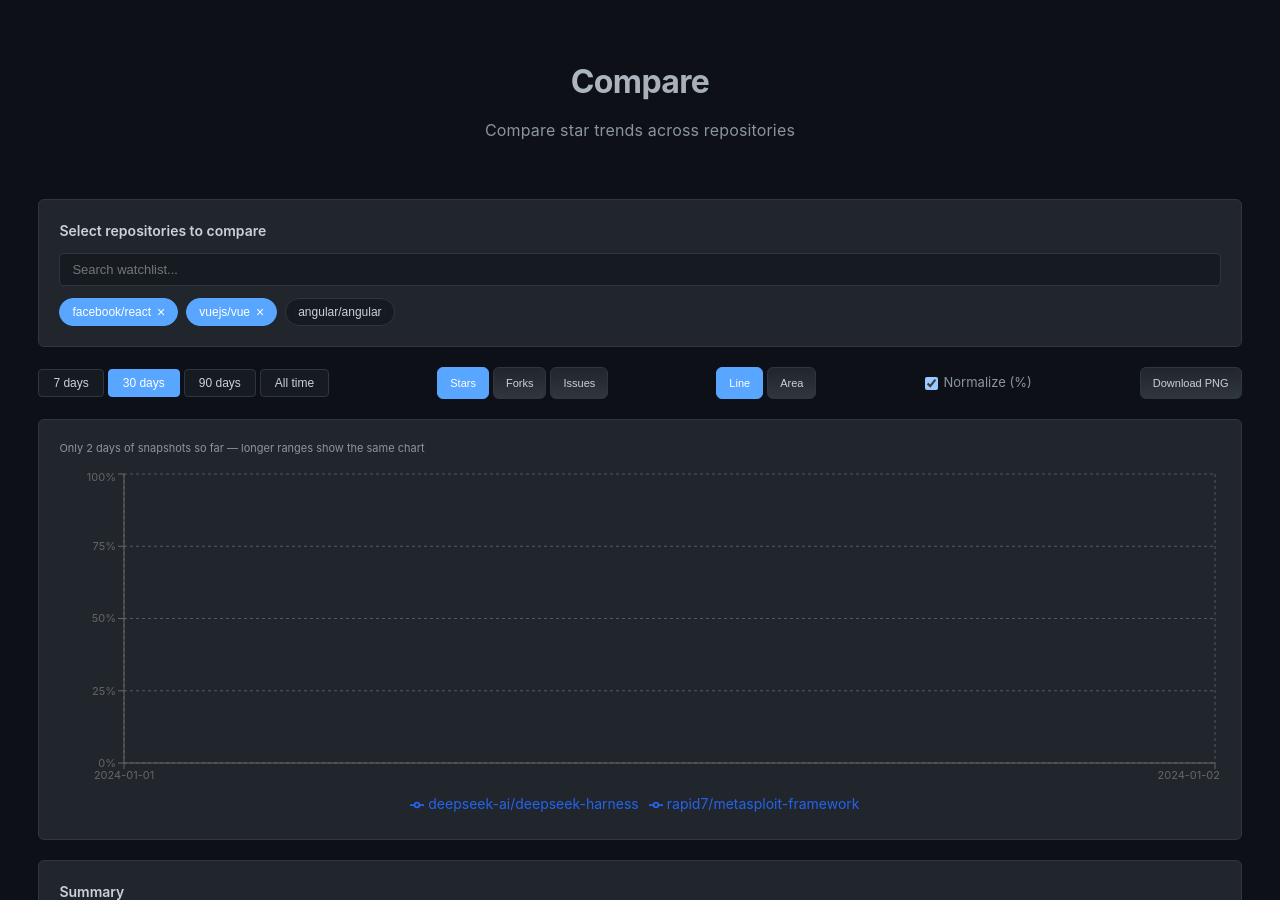
Test: Compare — 算不出百分比時說明原因 › 關掉正規化就不提示——那句話只在算百分比時成立
This screenshot has width=1280, height=900.
What coordinates should you click on to do the following:
click the button "Issues"
I would click on:
 (579, 383)
Its box is [550,367,608,399].
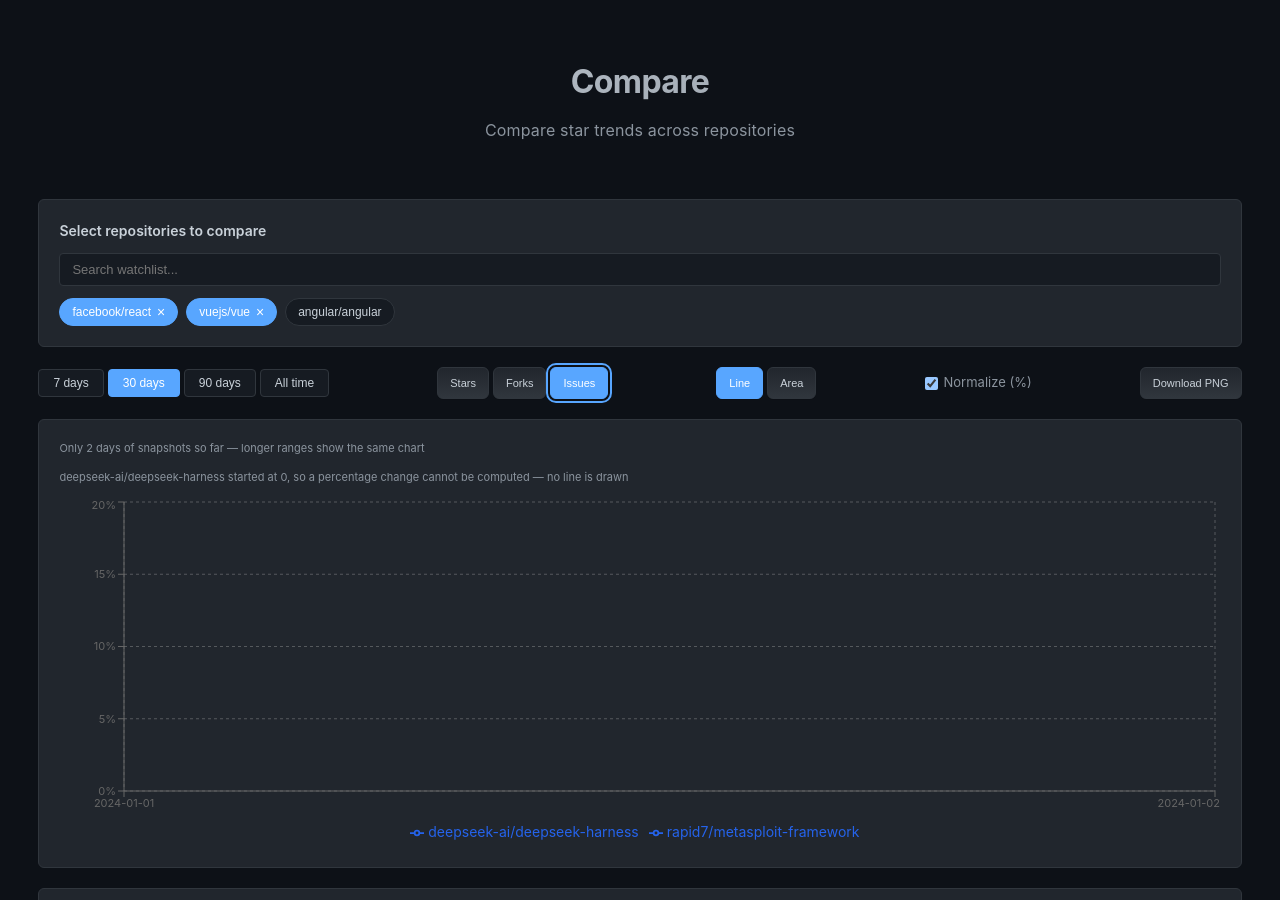
Expected: the text "started at 0" is shown, [59,470,628,484]
What coordinates should you click on to do the following:
click the checkbox labelled "Normalize (%)"
I would click on:
 (931, 383)
Its box is [924,377,938,390].
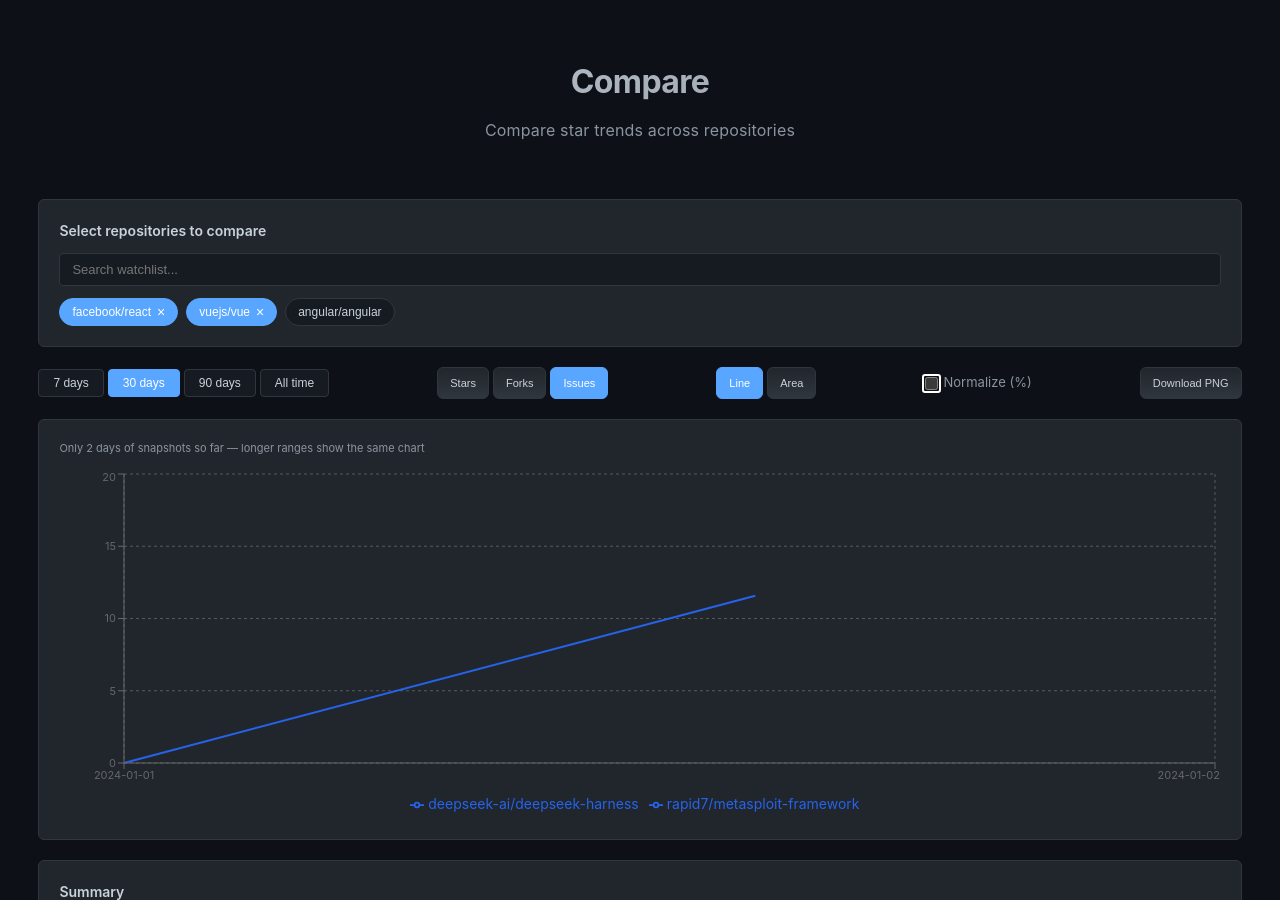
Expected: the text "started at 0" is gone
